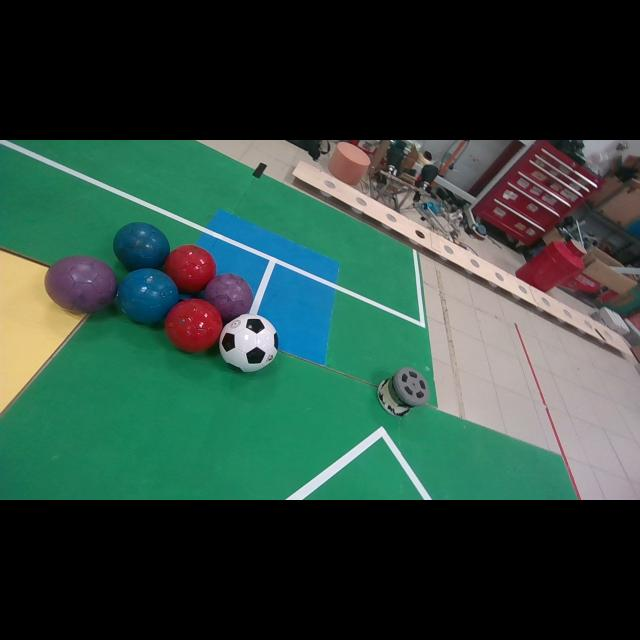B: (119, 269, 178, 322), (112, 222, 170, 271)
P: (45, 255, 118, 312), (205, 274, 252, 323)
R: (165, 299, 222, 352), (164, 245, 216, 292)
